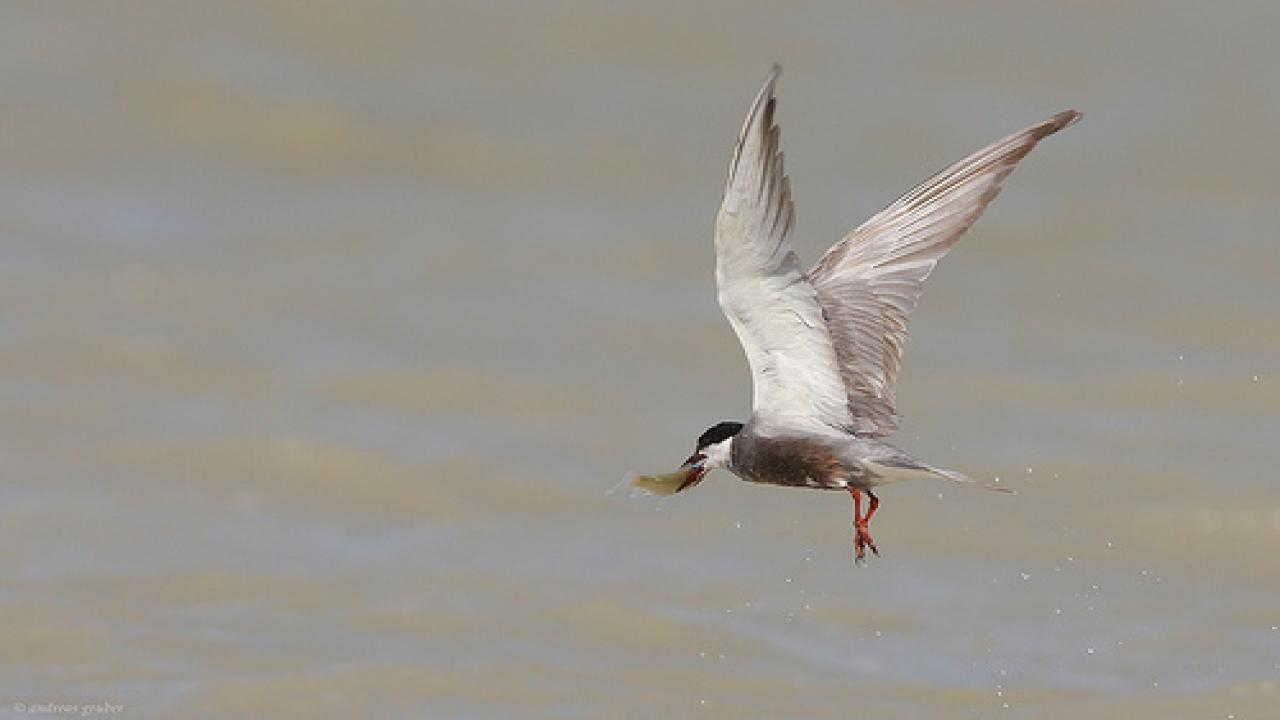Bird: (626, 57, 1100, 571)
